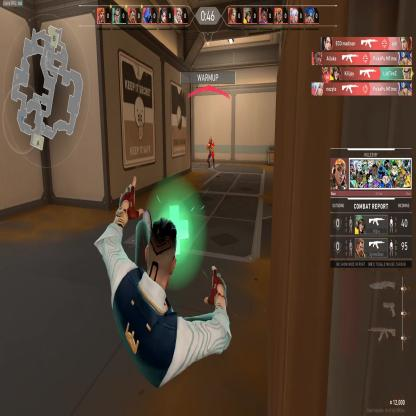enemy: (206, 134, 215, 170)
